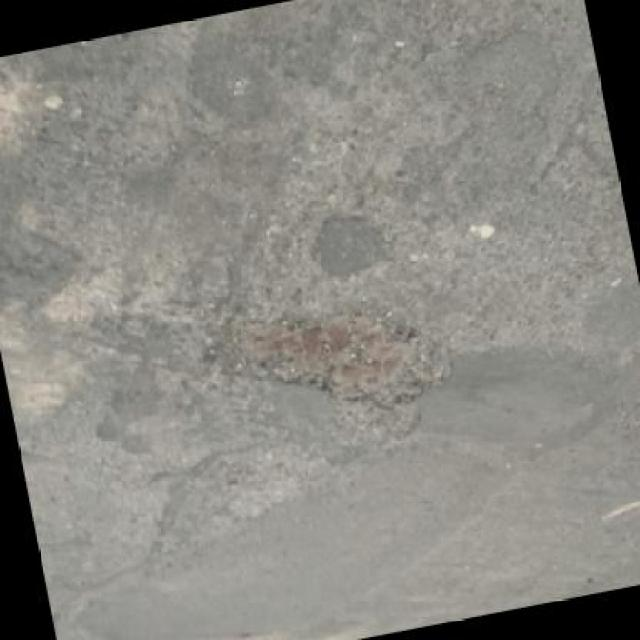pothole1: (212, 274, 462, 440)
